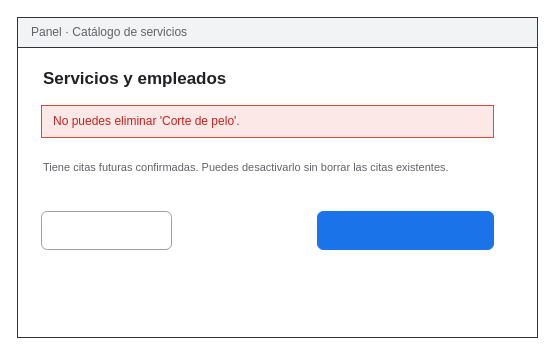
The diagram is 555 pixels wide and 355 high, and some of its shapes have lost their labels. Each missing label, with the centre of its shape:
Cancelar: point 106,230
Desactivar servicio: point 405,230
